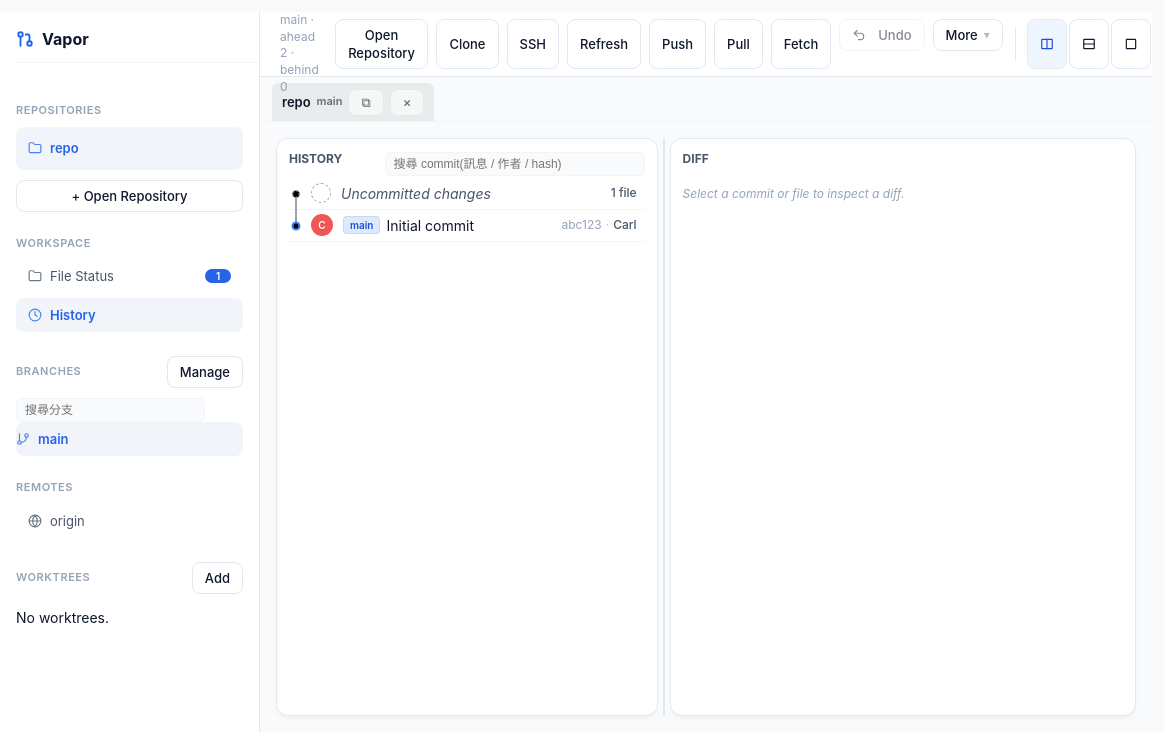
Test case: App › toggles viewMode between History and File Status
Expected: the text "Initial commit" is shown, [386,217,474,234]
Expected: the text "Working Tree" is not shown
Switch to File Status
Click the button "File Status 1" at (82, 276), box [28,268,231,284]
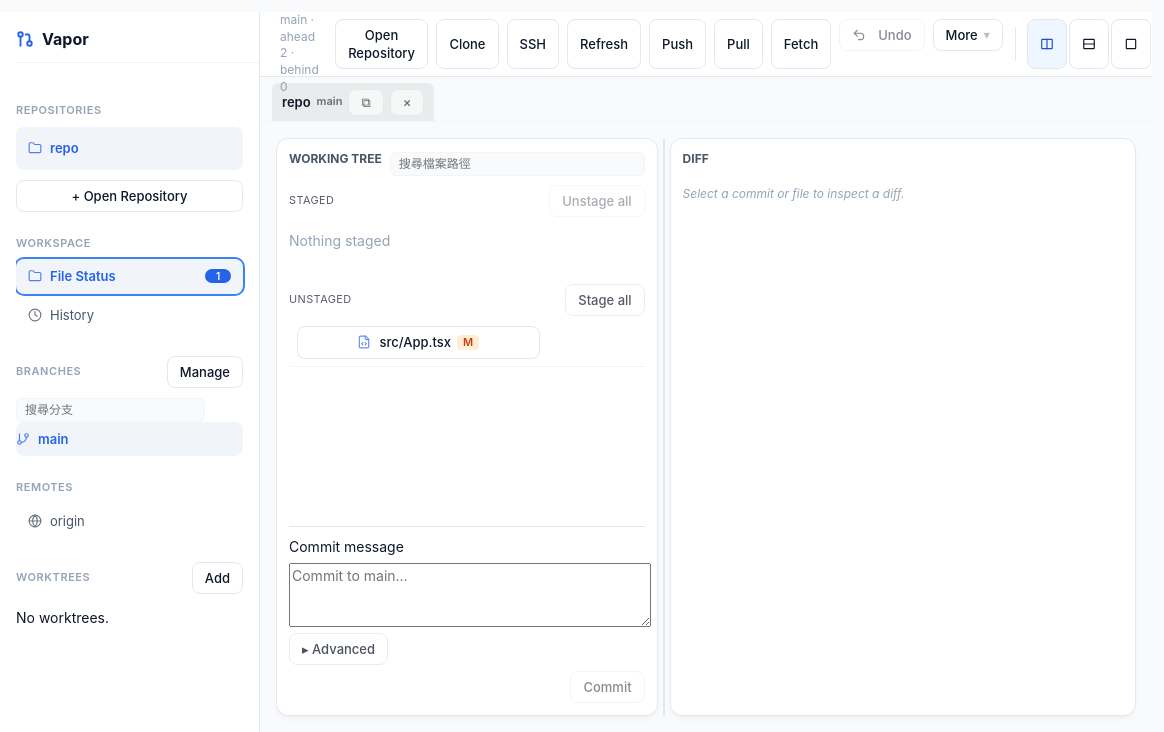
Now the heading "Working Tree" is shown, box [289,151,382,168]
Now the button "Initial commit" is gone
Switch back to History
Click the button "History" at (61, 314), box [28,306,94,322]
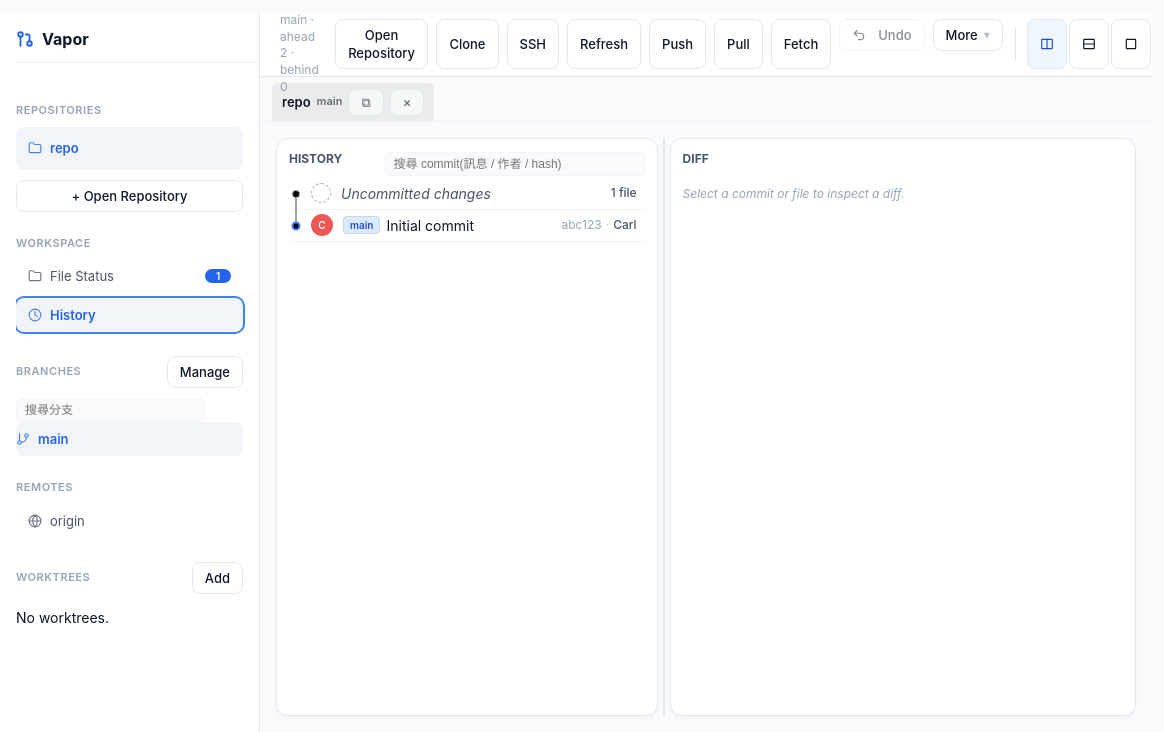
Now the text "Initial commit" is shown, box [386,217,474,234]
Now the heading "Working Tree" is gone
